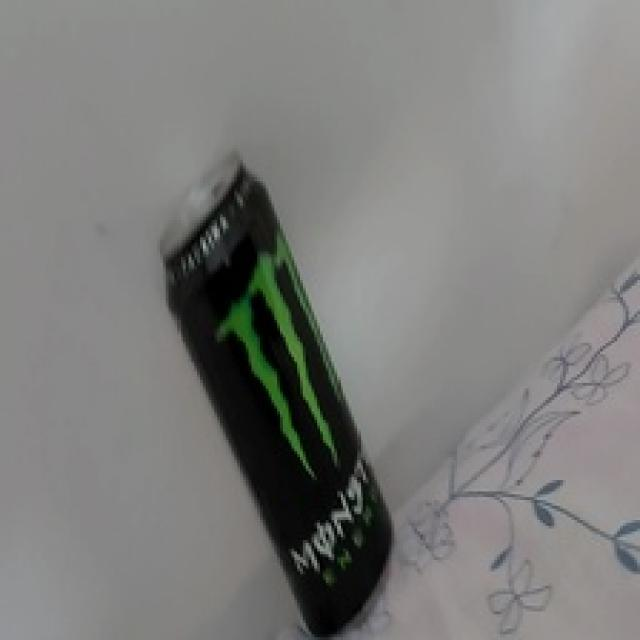recyclable: (158, 149, 396, 640)
